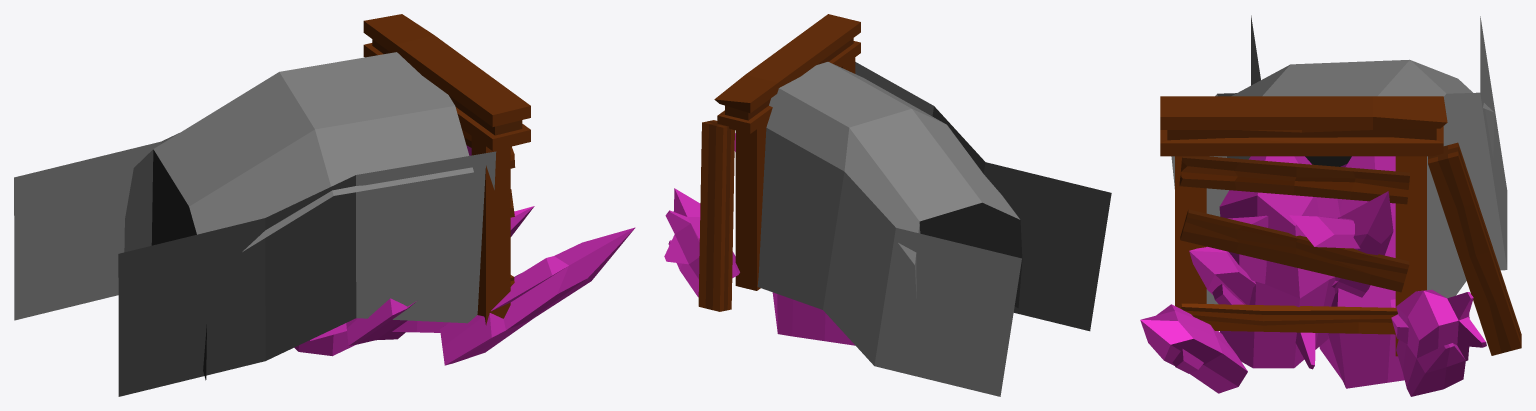
The model's file is Exit.fbx.
3 views of the same model, side by side, from view 1: azimuth 30°, elevation 25°; view 2: azimuth 150°, elevation 25°; view 3: azimuth 270°, elevation 25° (orthographic). The views are drawn at different scales.
Visible parts, largest first — view 1: Cube, Cube.001; view 2: Cube, Cube.001; view 3: Cube.001, Cube.
Boxes of the visible parts, left/top/right/bottom form: Cube: left=14, top=14, right=530, bottom=396; Cube.001: left=294, top=129, right=635, bottom=365; Cube: left=698, top=14, right=1111, bottom=396; Cube.001: left=664, top=133, right=854, bottom=345; Cube.001: left=1140, top=156, right=1486, bottom=396; Cube: left=1160, top=15, right=1521, bottom=356.
Size of the model in its own units: 748 by 422 by 482.
